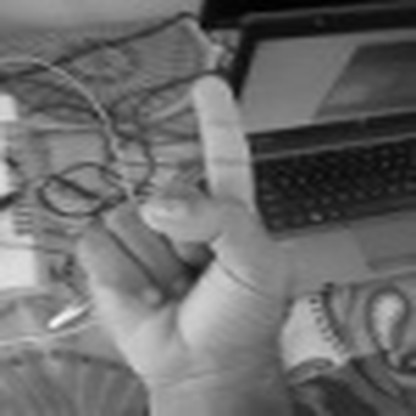d: (86, 67, 283, 416)
